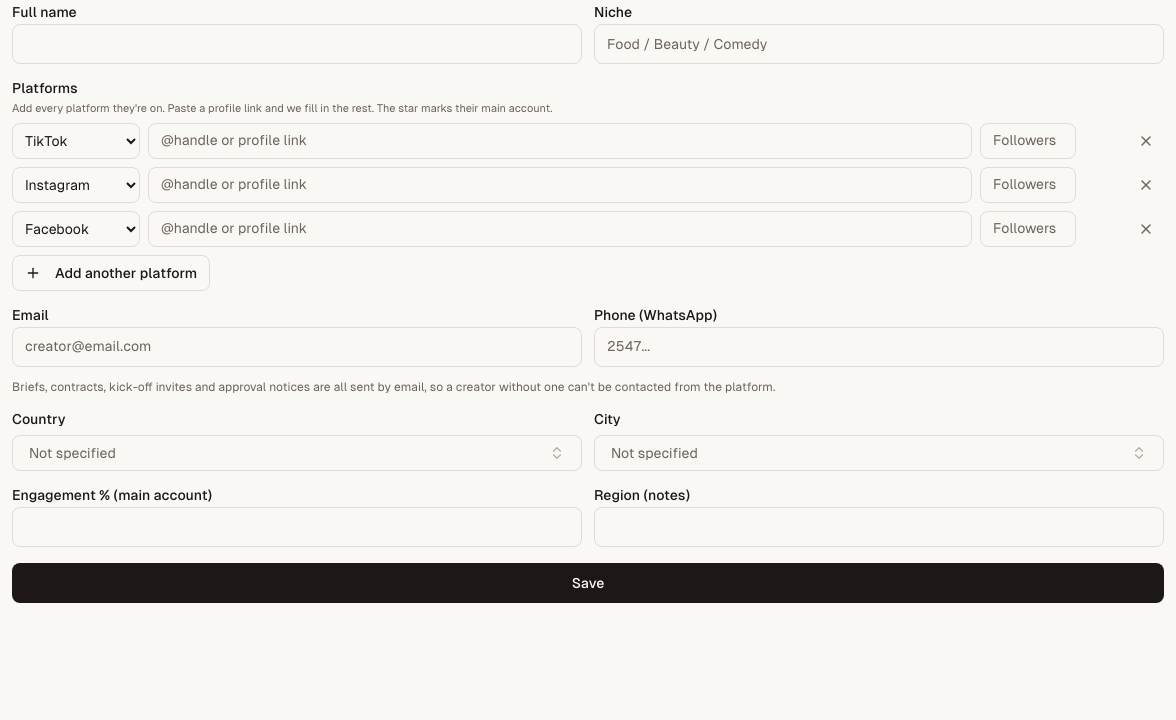
Test: catching someone already on the roster › stops when a handle is already on the roster and adds the new accounts to that creator
The image size is (1176, 720).
Later steps or results of the test are not shown.
Type "J Cooks" into the field labelled "Full name" at (297, 44), box top-left (12, 24), bottom-right (582, 64)
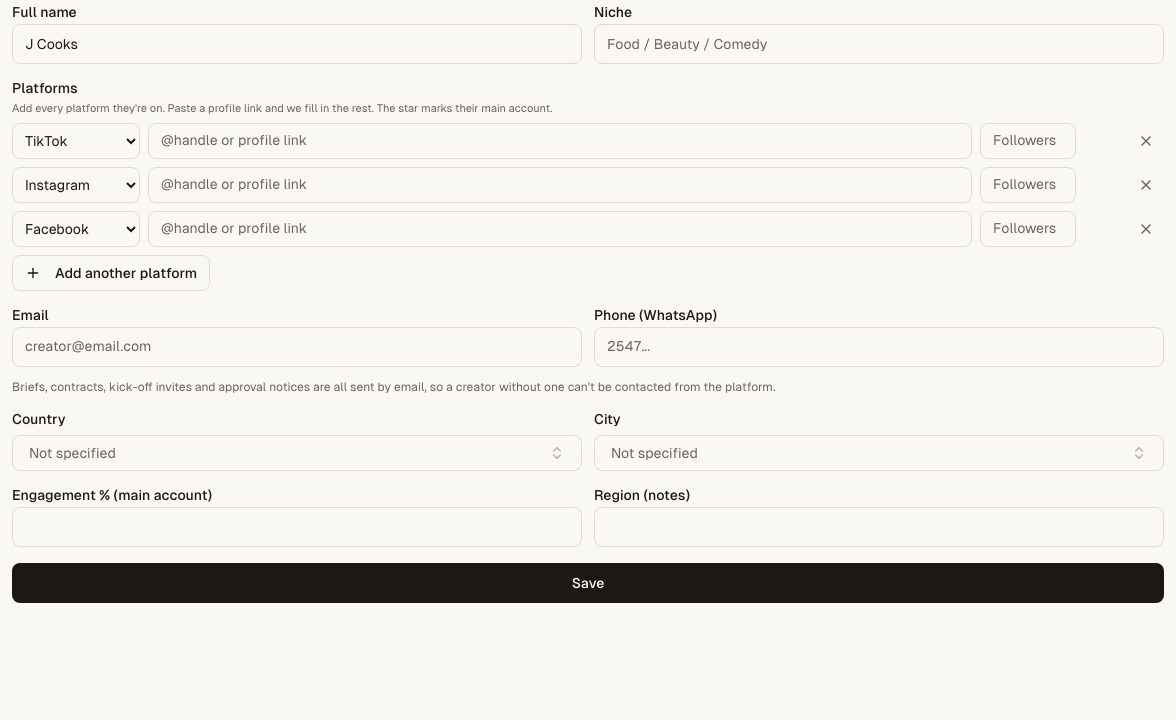
Type "janecooks" into the 1st field labelled "handle or profile link" at (560, 140), box top-left (148, 122), bottom-right (972, 158)
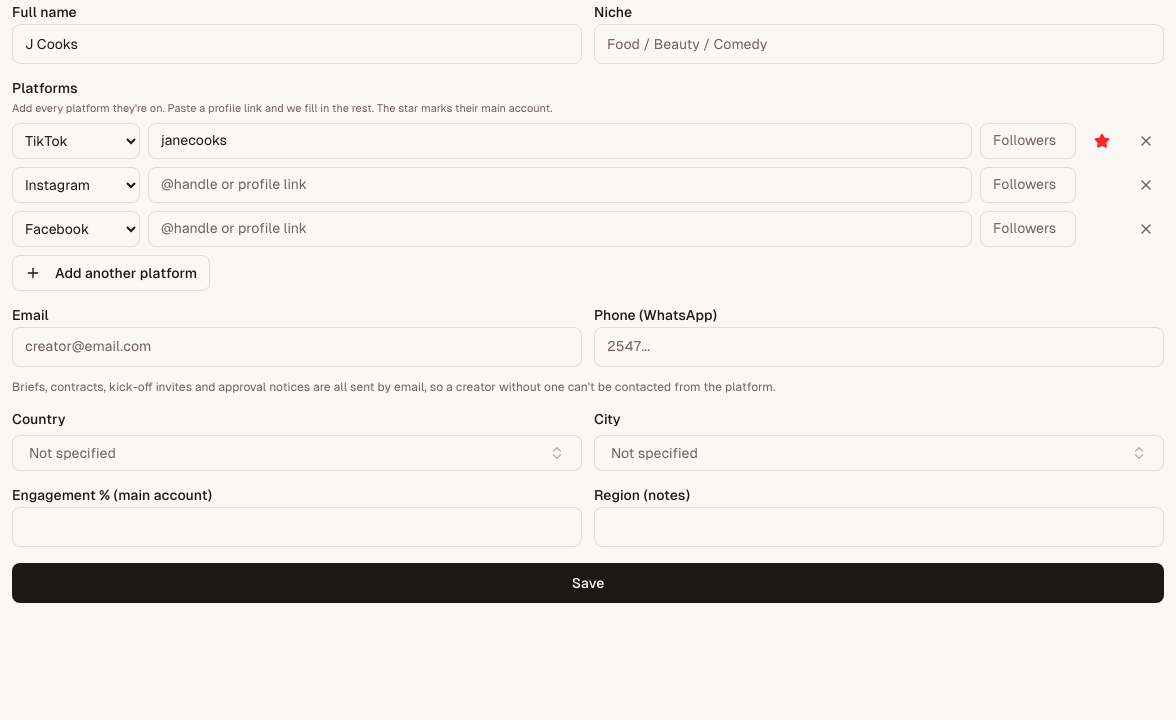
Type "jane.ig" into the 1st field labelled "handle or profile link" at (560, 184), box top-left (148, 166), bottom-right (972, 202)
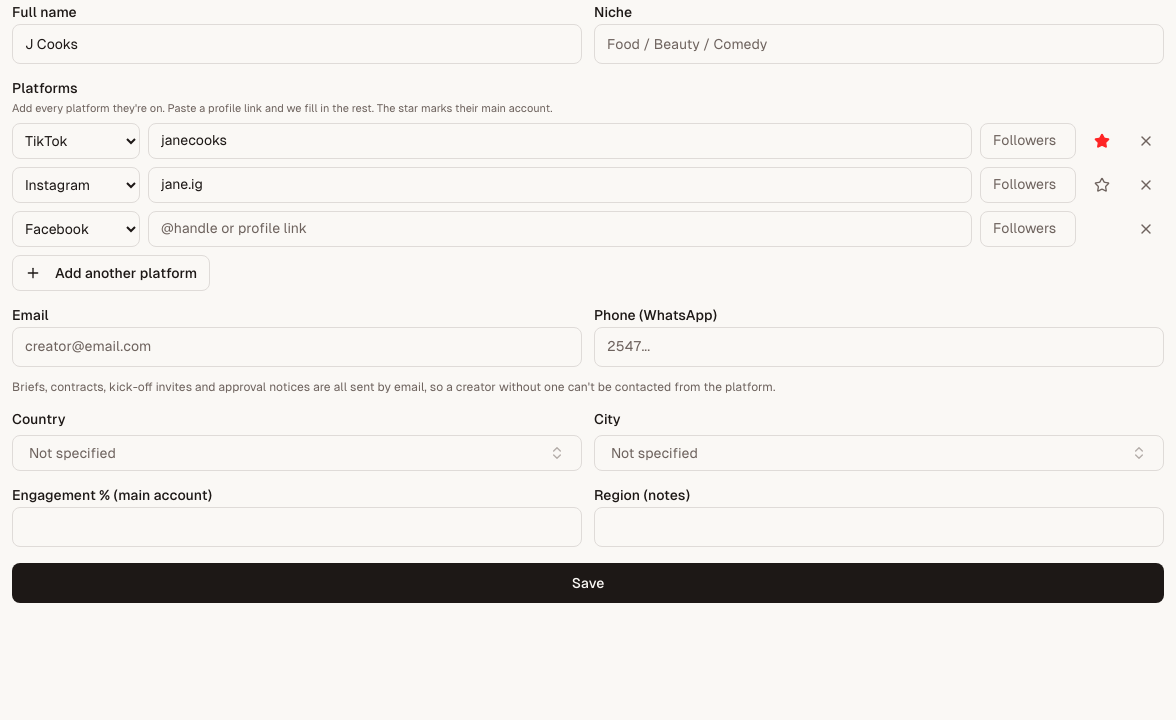
Click the button "Save" at (588, 582), box top-left (12, 562), bottom-right (1164, 602)
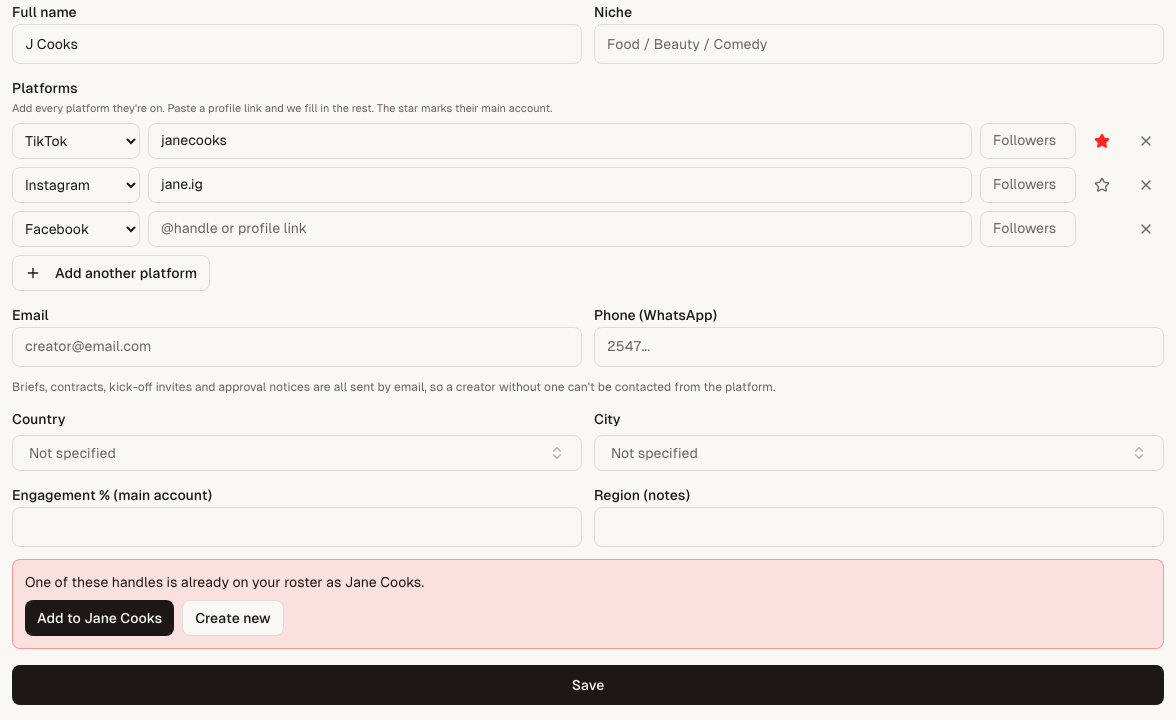
Expected: the text "already on your roster as Jane Cooks" is shown, top-left (25, 574), bottom-right (424, 590)
